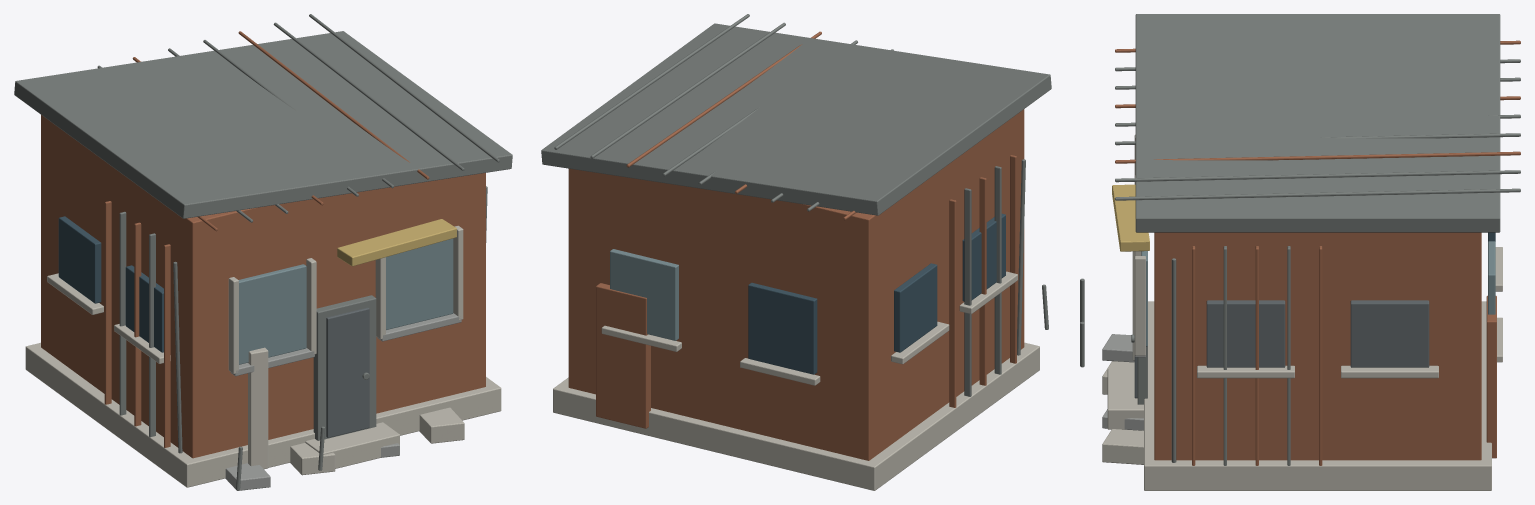
File: Apoc_House_03_Salvaged_Tin_Shack.fbx
The picture shows the model from 3 angles, left to right: view 1: azimuth 30°, elevation 25°; view 2: azimuth 150°, elevation 25°; view 3: azimuth 270°, elevation 25°; orthographic projection. The views are drawn at different scales.
Parts seen in each view (by area): view 1: Apoc_House_03_Salvaged_Tin_Shack; view 2: Apoc_House_03_Salvaged_Tin_Shack; view 3: Apoc_House_03_Salvaged_Tin_Shack.
Part boxes in pixels (<box>): Apoc_House_03_Salvaged_Tin_Shack: <box>14,14,512,490</box>; Apoc_House_03_Salvaged_Tin_Shack: <box>541,14,1051,490</box>; Apoc_House_03_Salvaged_Tin_Shack: <box>1080,14,1520,490</box>.
Size of the model in its own units: 4.38 by 3.66 by 4.71.
